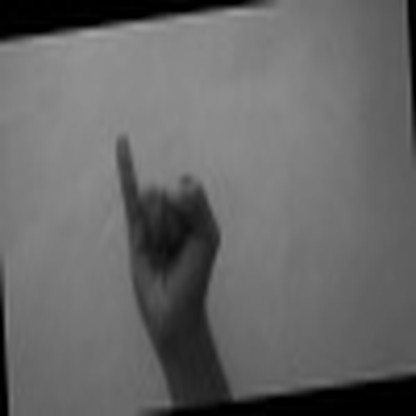i: (109, 117, 226, 317)
